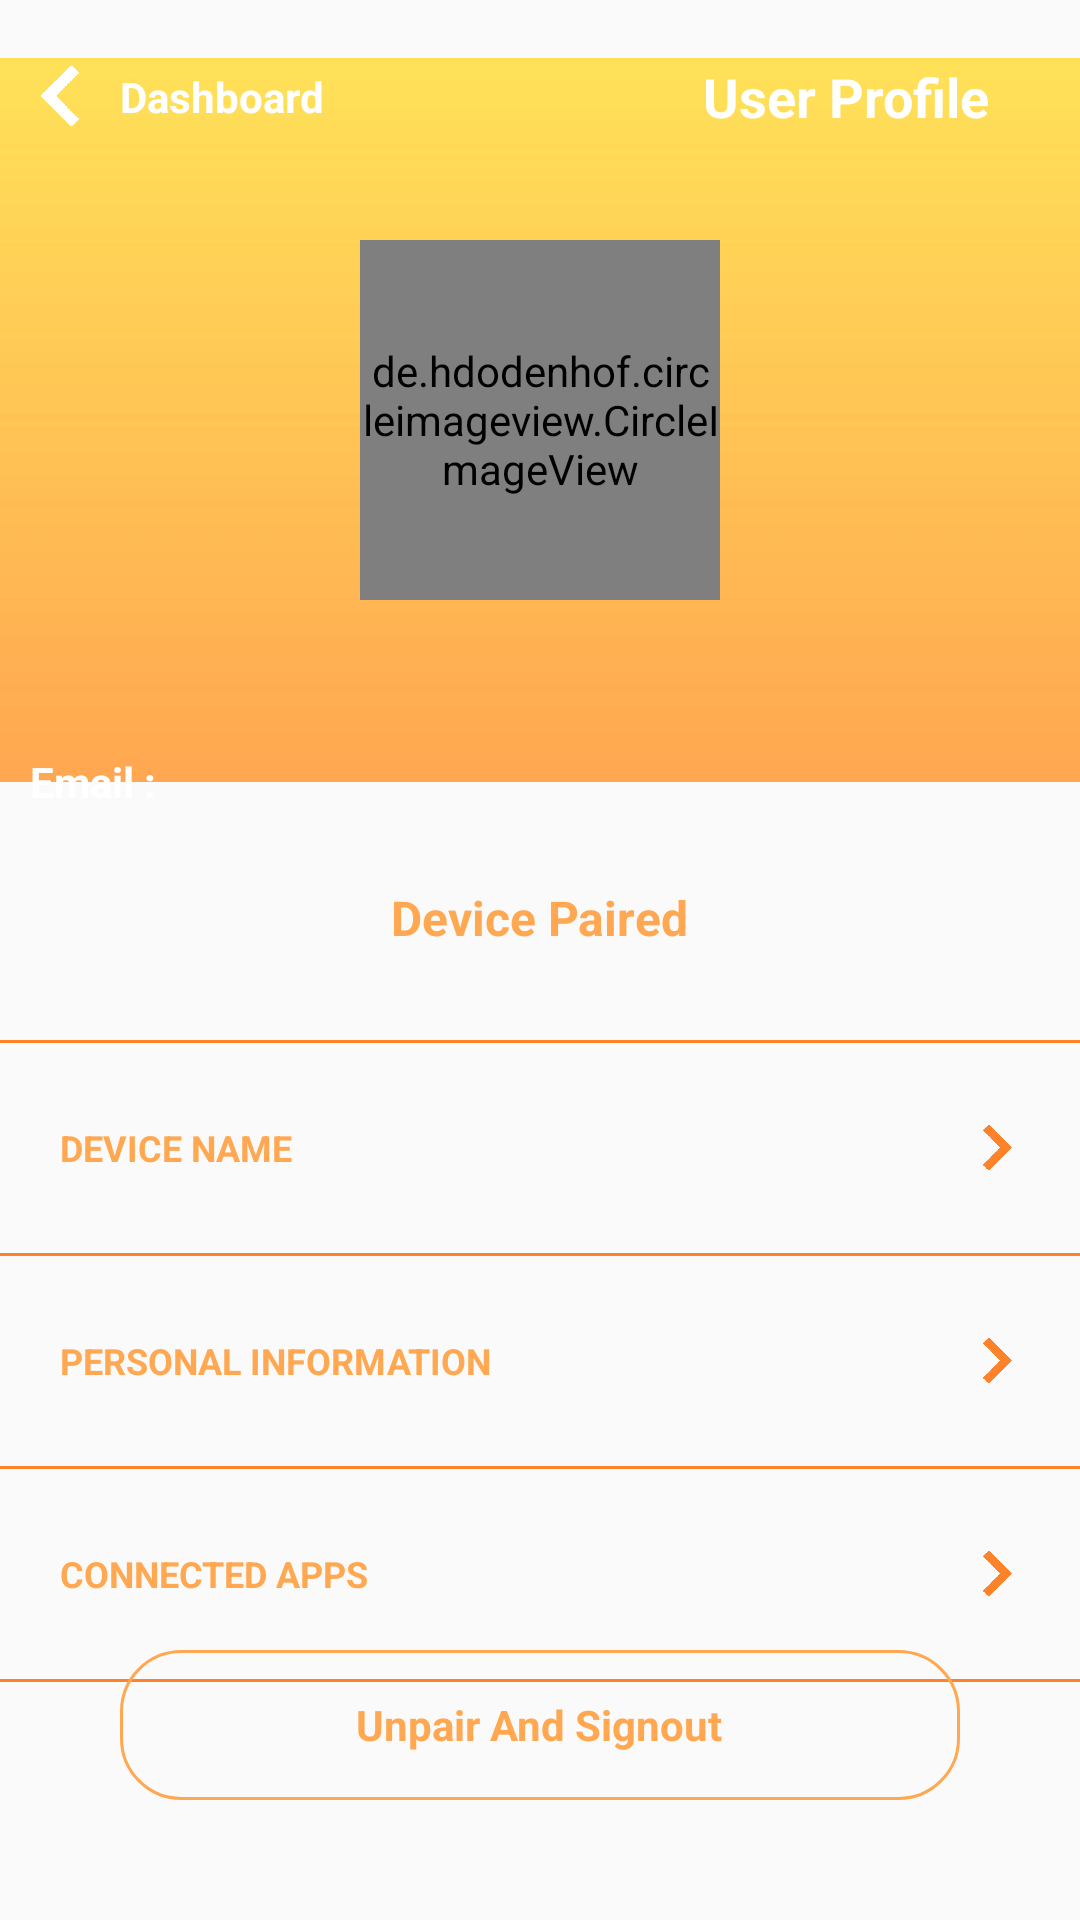

Named icons in this screenshot (1080×1920) and their bounding boxes, [x1=x1, y1=y1, x2=x2, y2=y2]:
back: [x1=41, y1=66, x2=79, y2=126]
next: [x1=983, y1=1125, x2=1012, y2=1170], [x1=983, y1=1338, x2=1012, y2=1383], [x1=983, y1=1551, x2=1012, y2=1596]
